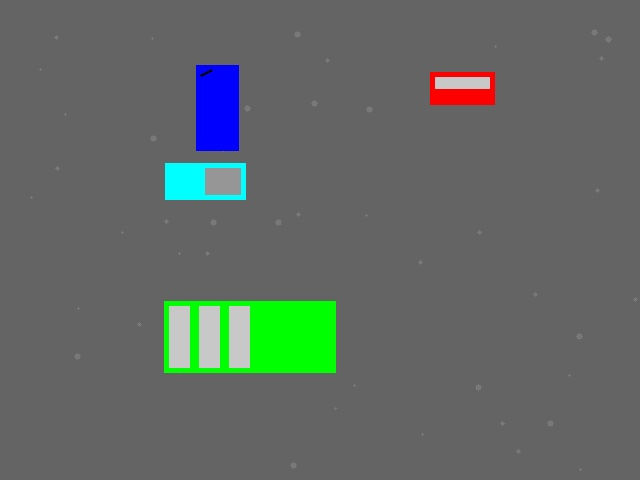bus: (164, 301, 335, 372)
car: (430, 72, 494, 104)
motorcycle: (196, 65, 238, 150)
truck: (165, 163, 245, 199)
